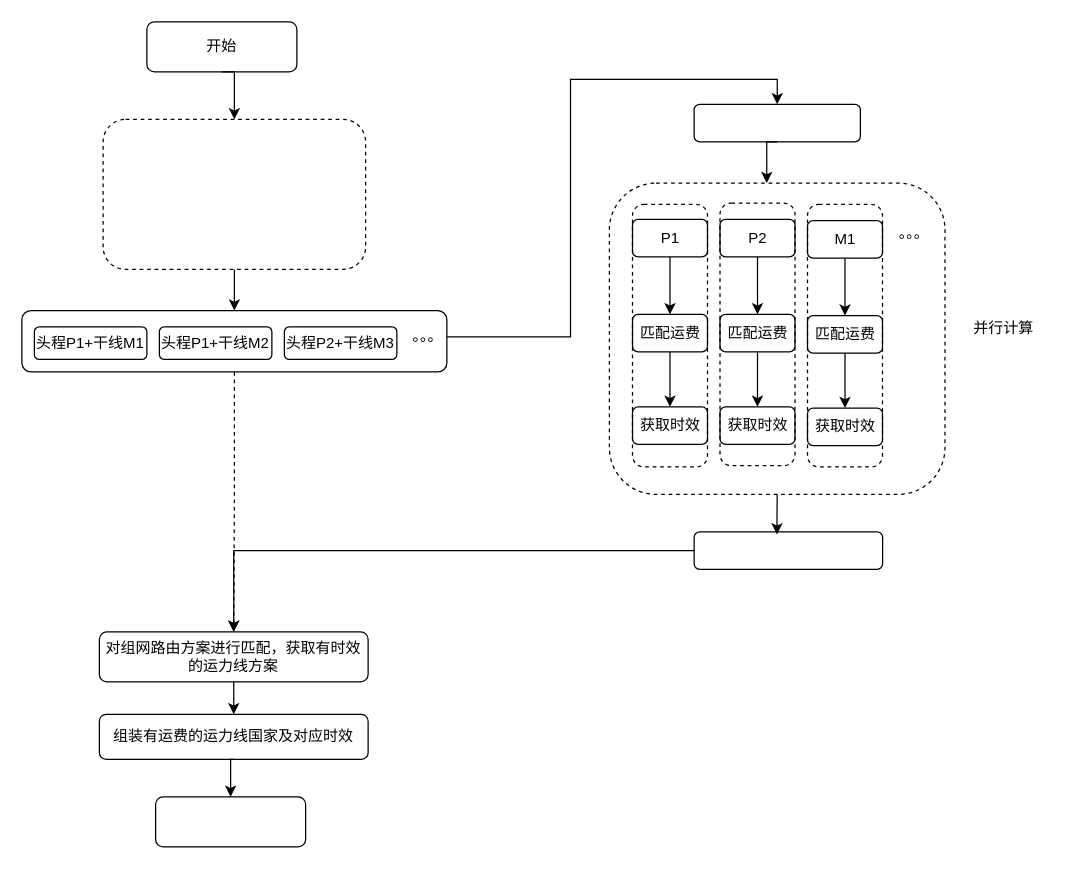
This 1069x869 diagram has some shape labels left out. Here are the shapes that lost their labels. From the top down, the centre of each, then its label:
pixel 776 122: P1、P2、M1、M2、M3
pixel 234 193: 组网路由
pixel 788 550: 有时效的方案及对应时效
pixel 230 821: 结束
